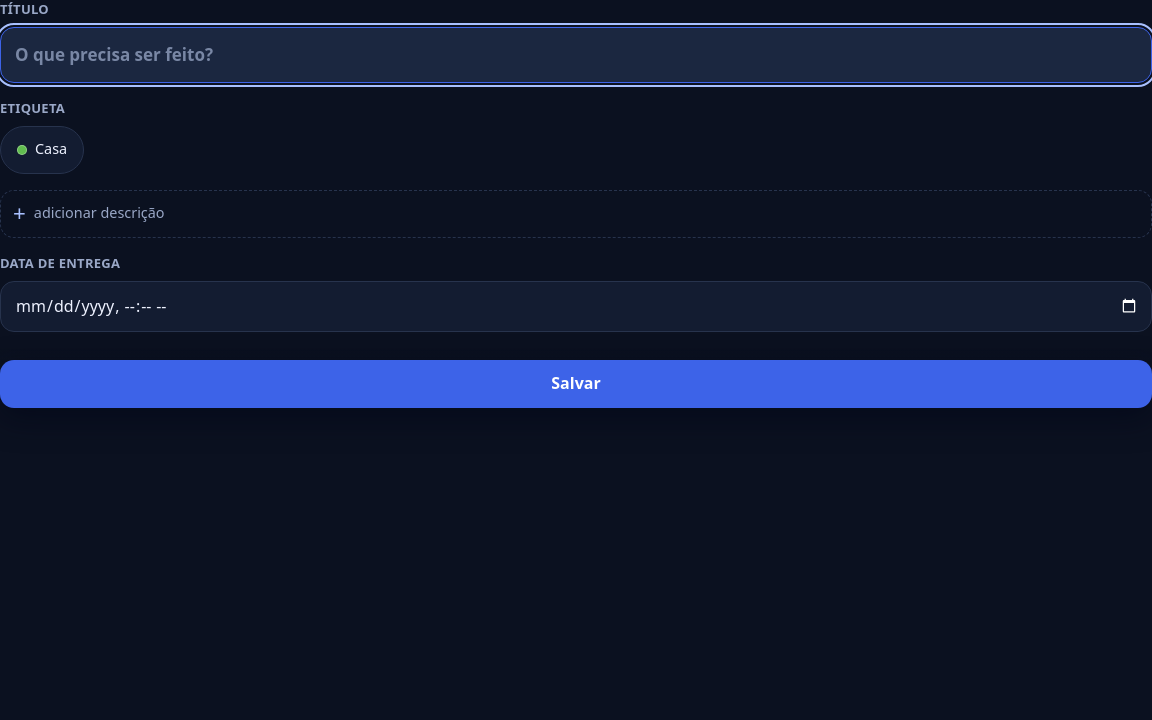
Test case: CardForm › creates a card and shows success
Type "Comprar leite" into the field labelled "Título" at [576, 55], box left=0, top=27, right=1151, bottom=83
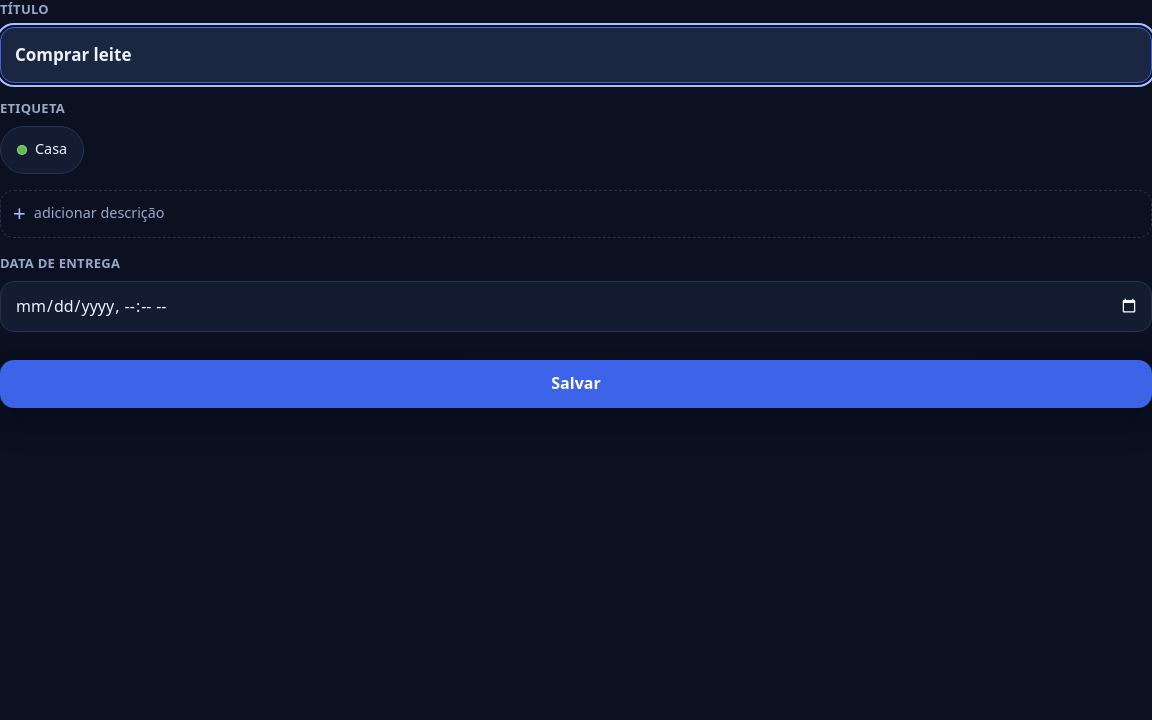
Click the button "Salvar" at [576, 384], box left=0, top=360, right=1151, bottom=408
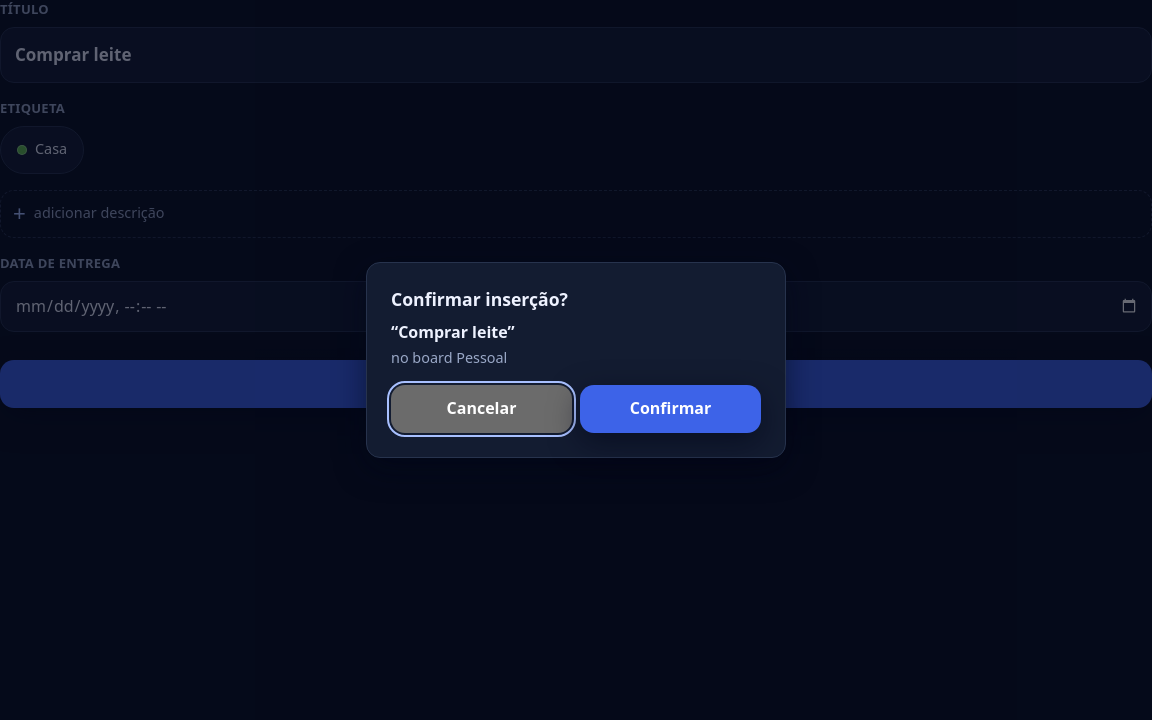
Click the button "Confirmar" at [670, 409], box left=580, top=385, right=761, bottom=433
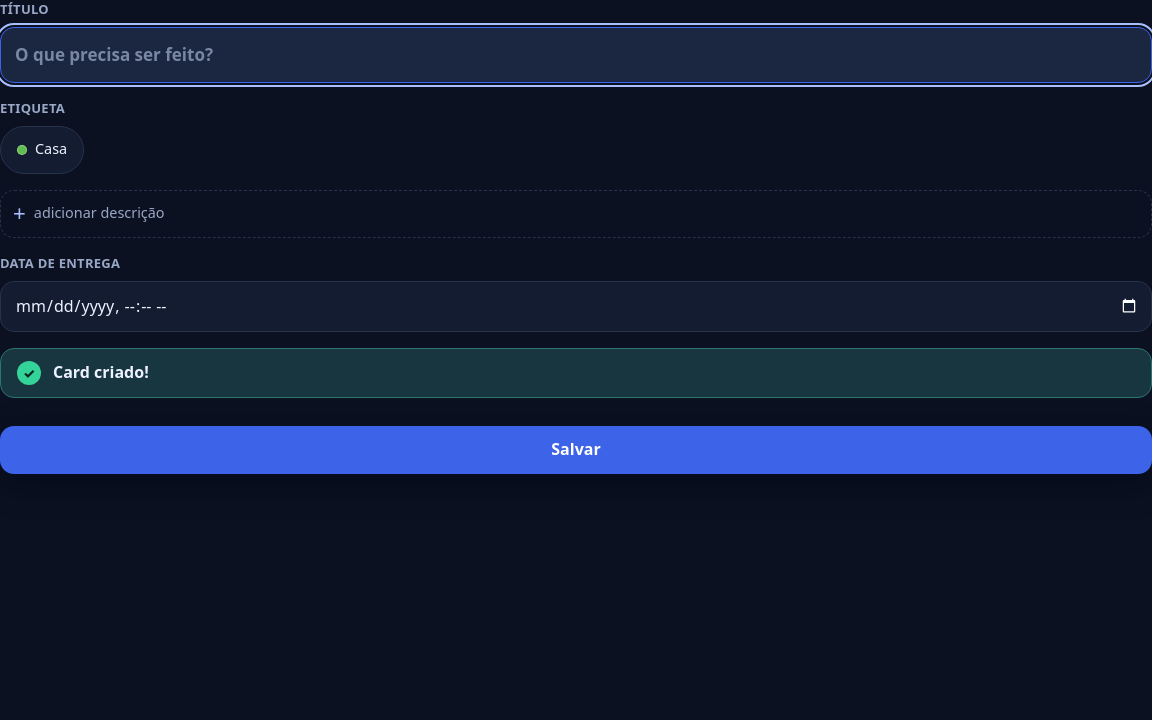
Check: the message reads "Card criado!", box left=53, top=361, right=149, bottom=383
